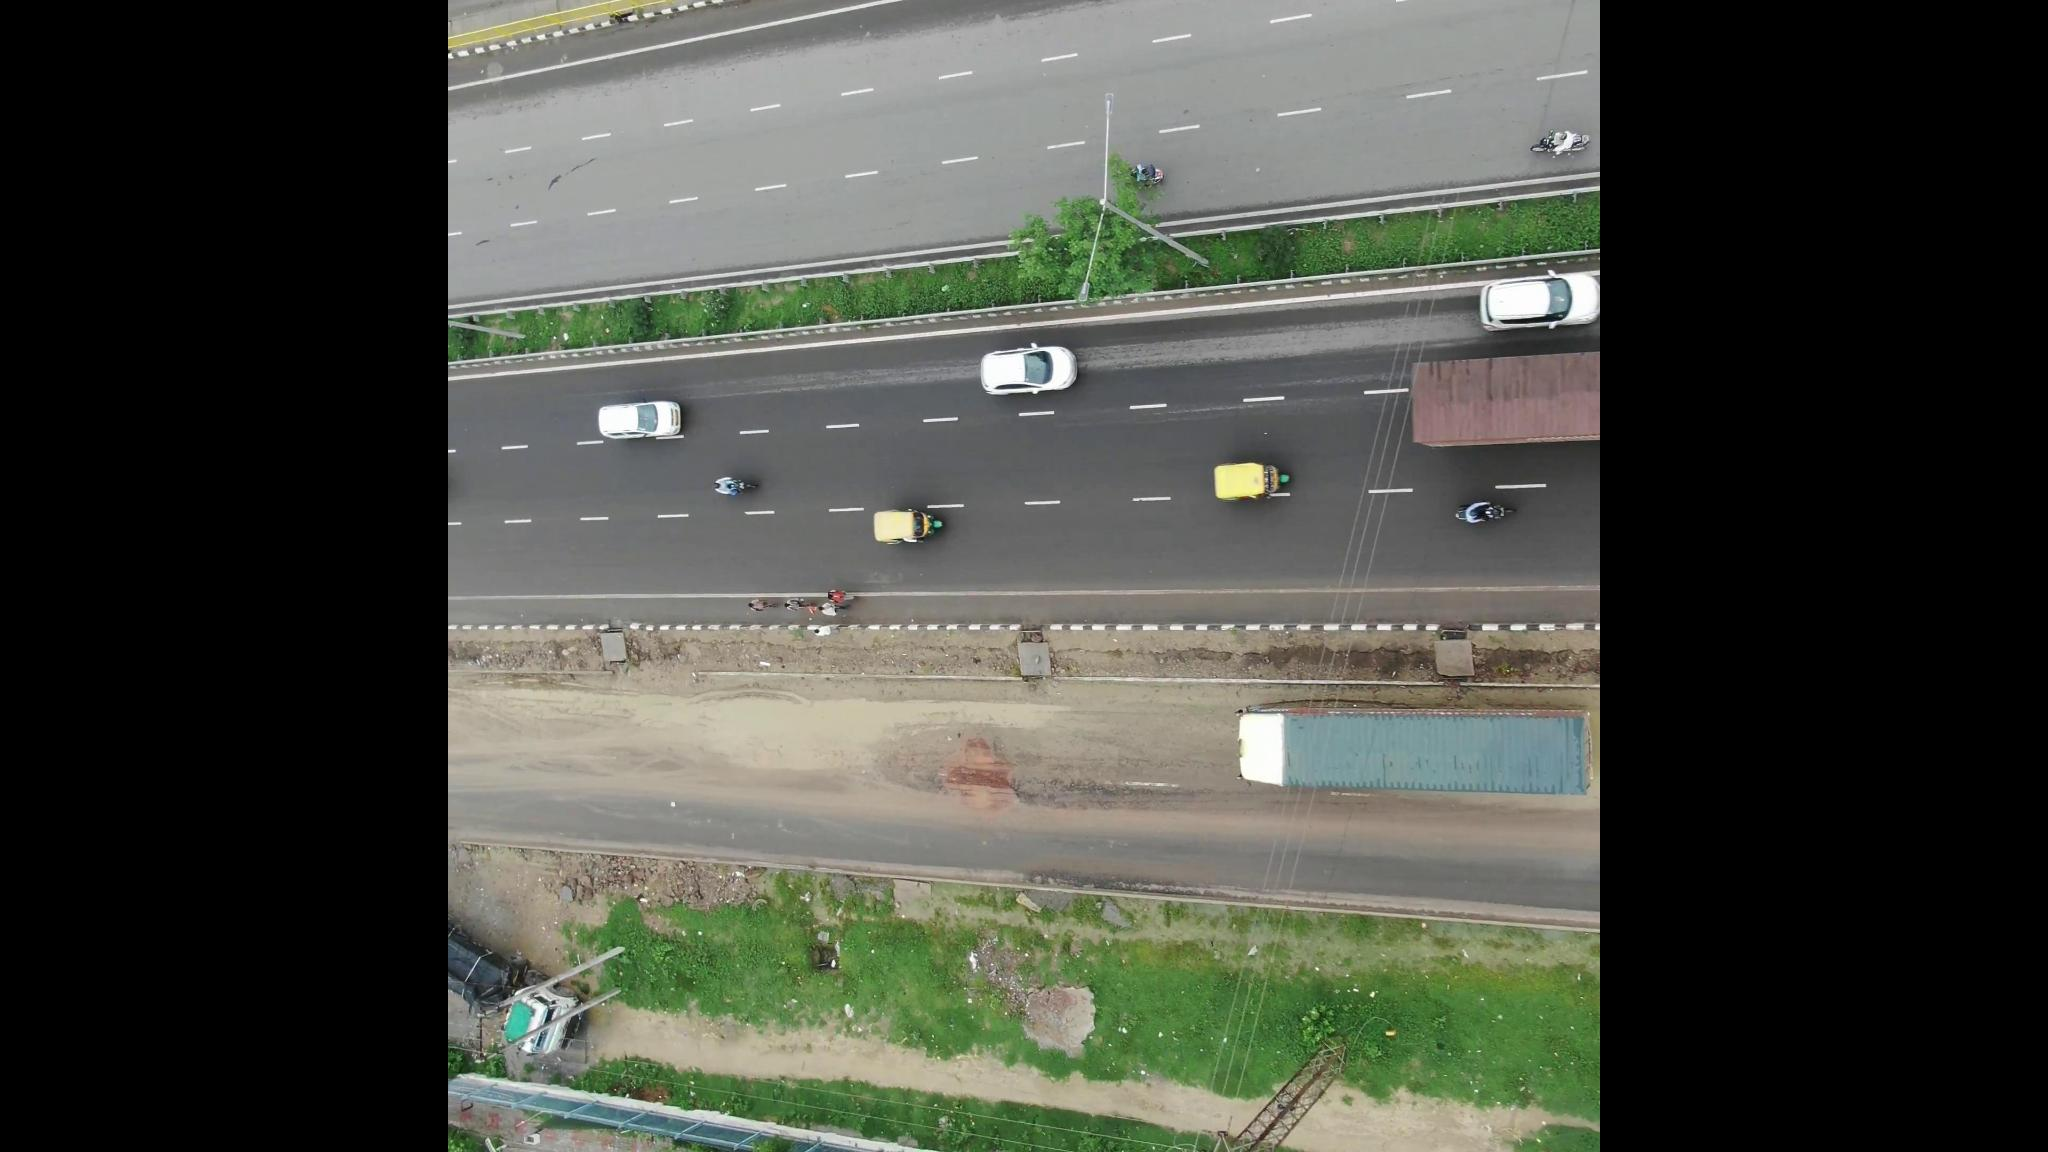Muddy_road: (928, 699, 1210, 800), (615, 699, 914, 778), (450, 693, 602, 781)
